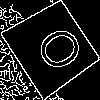O: (26, 23, 87, 80)
